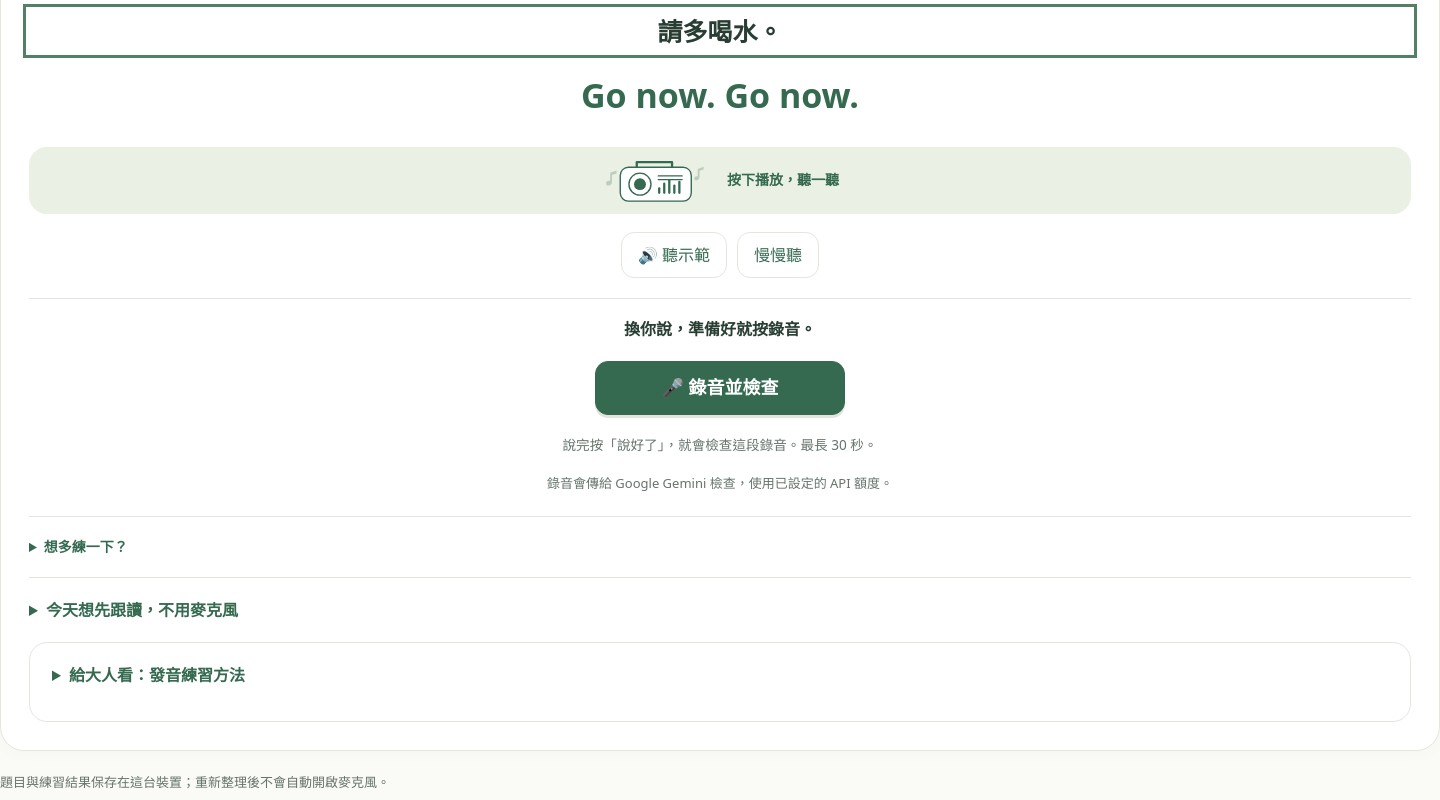
learning workshops › tracks the selected occurrence of repeated phrases in both the guide and the full example
The image size is (1440, 800).
(page scrolled)
Click the heading "想多練一下？".
click(86, 546)  # box [44,537,128,556]
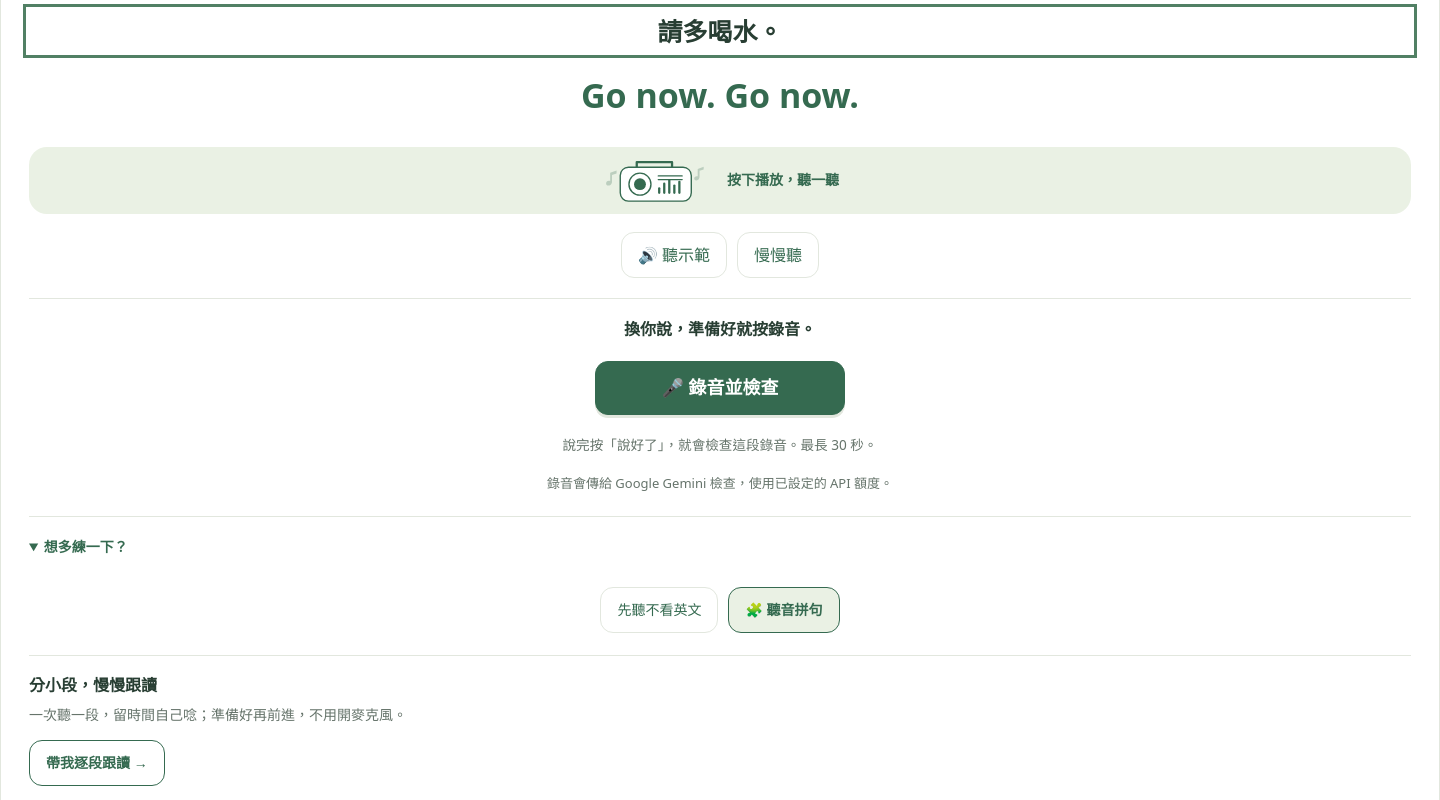
Click the button "帶我逐段跟讀 →".
click(97, 762)  # box [29,740,165,786]
(page scrolled)
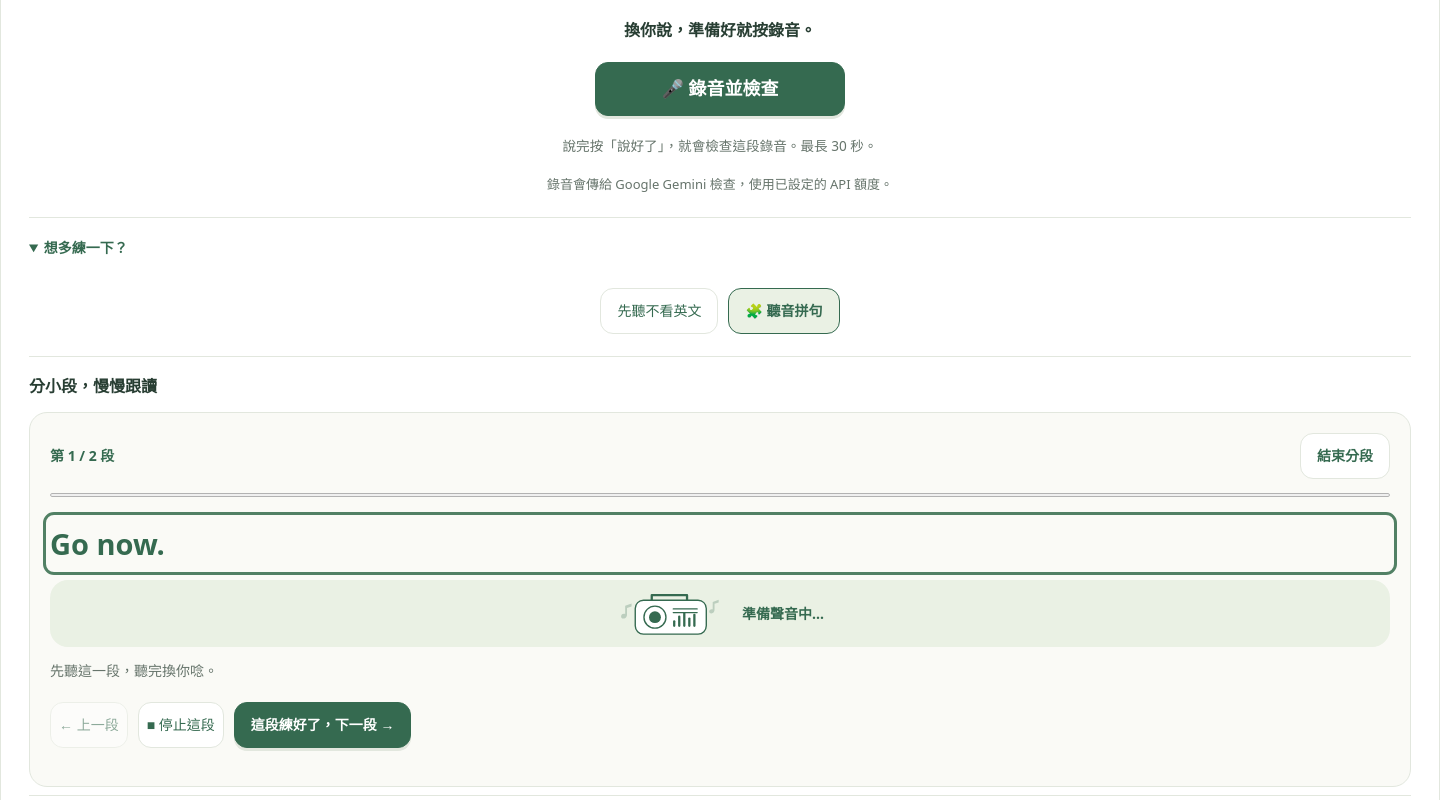
Click the button "這段練好了，下一段 →".
click(323, 725)  # box [234,702,411,748]
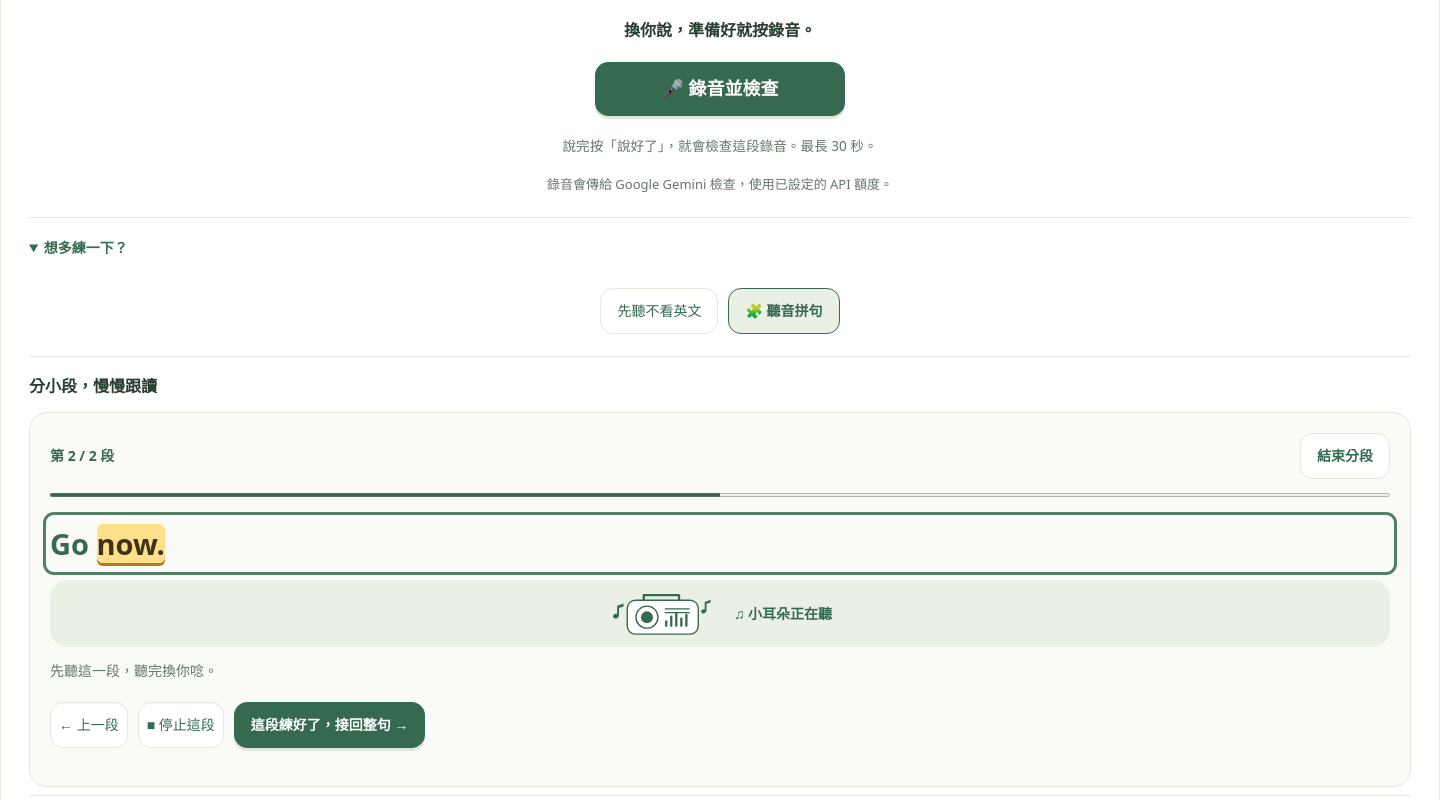
Check: the text with class "is-current" reads "now.", box [96,524,165,563]
Click the button "■ 停止這段".
click(181, 725)  # box [138,702,224,748]
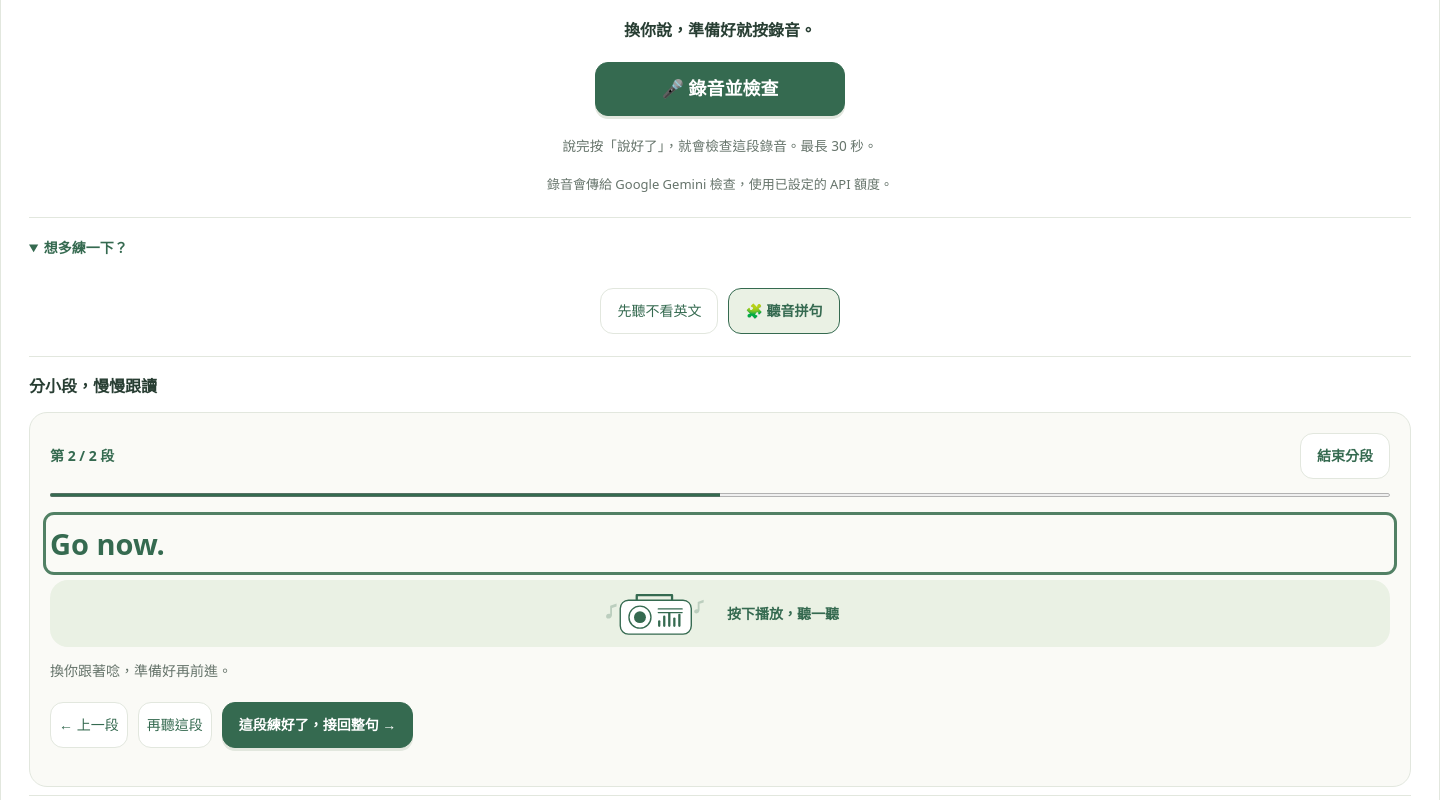
Check: the text with class "is-current" is gone
